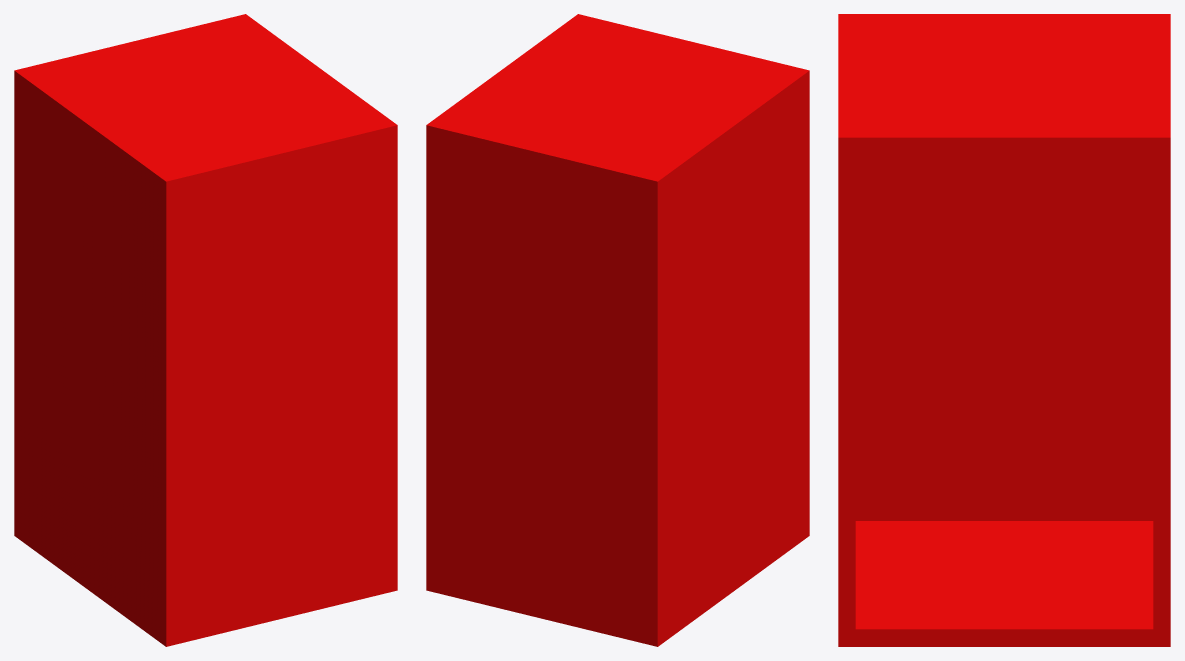
File: Fridge_color.dae
The picture shows the model from 3 angles, left to right: view 1: azimuth 30°, elevation 25°; view 2: azimuth 150°, elevation 25°; view 3: azimuth 270°, elevation 25°; orthographic projection. The views are drawn at different scales.
Parts seen in each view (by area): view 1: Cube; view 2: Cube; view 3: Cube.
Part boxes in pixels (x1=…): Cube: x1=14, y1=14, x2=397, y2=646; Cube: x1=426, y1=14, x2=809, y2=646; Cube: x1=838, y1=14, x2=1170, y2=646.
Size of the model in its own units: 0.492 by 0.5591 by 0.9447.
